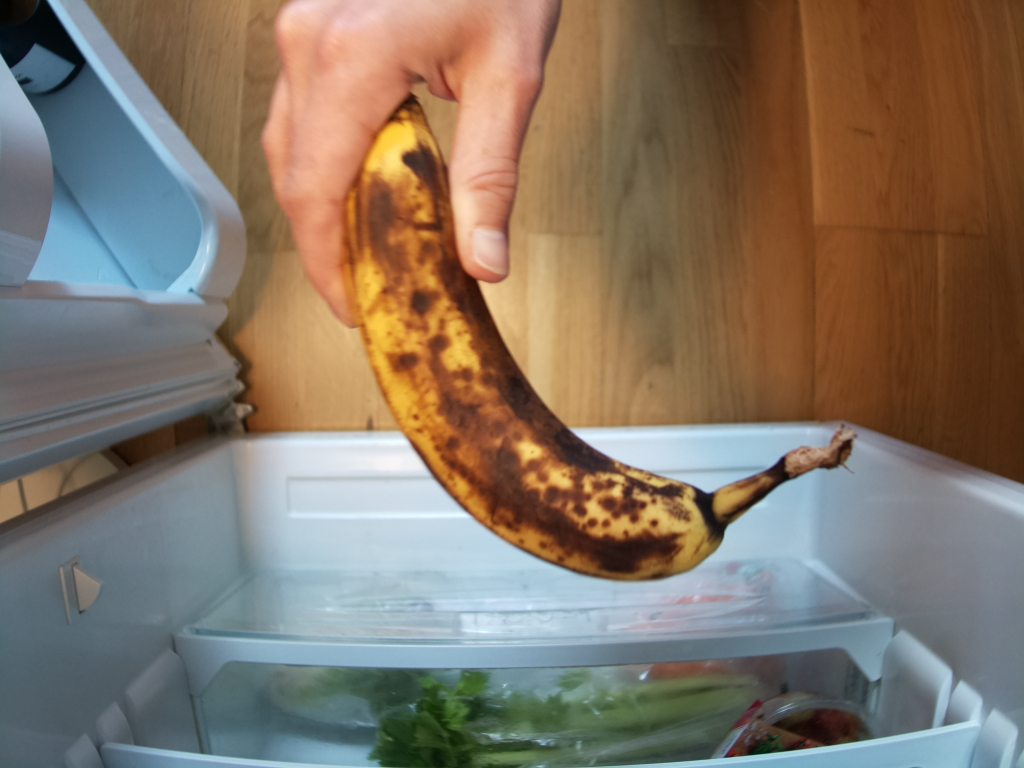banana-overripe: (345, 96, 856, 582)
